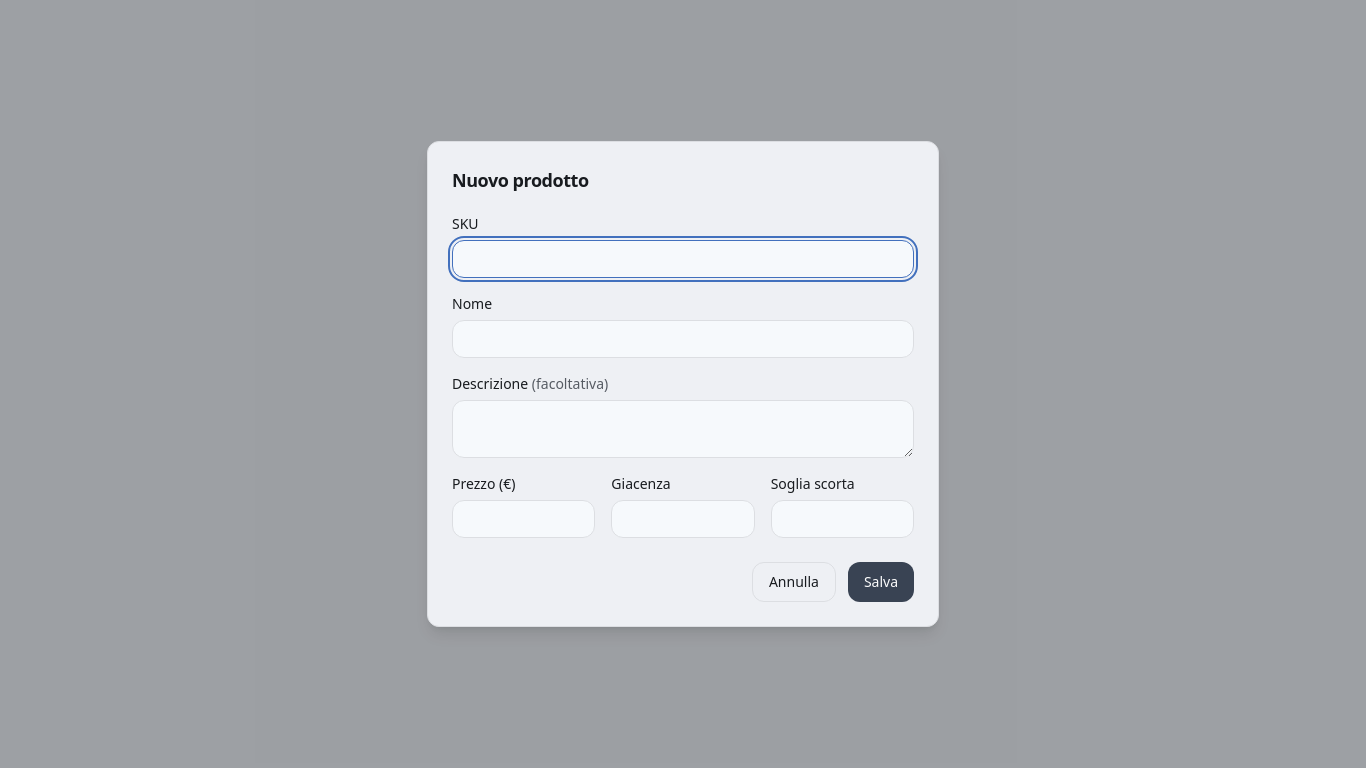
Test: ProductFormDialog › blocca il submit a campi obbligatori mancanti e mostra gli errori
This screenshot has width=1366, height=768.
Click the button "Salva": (881, 582) top-left (848, 562), bottom-right (914, 602)
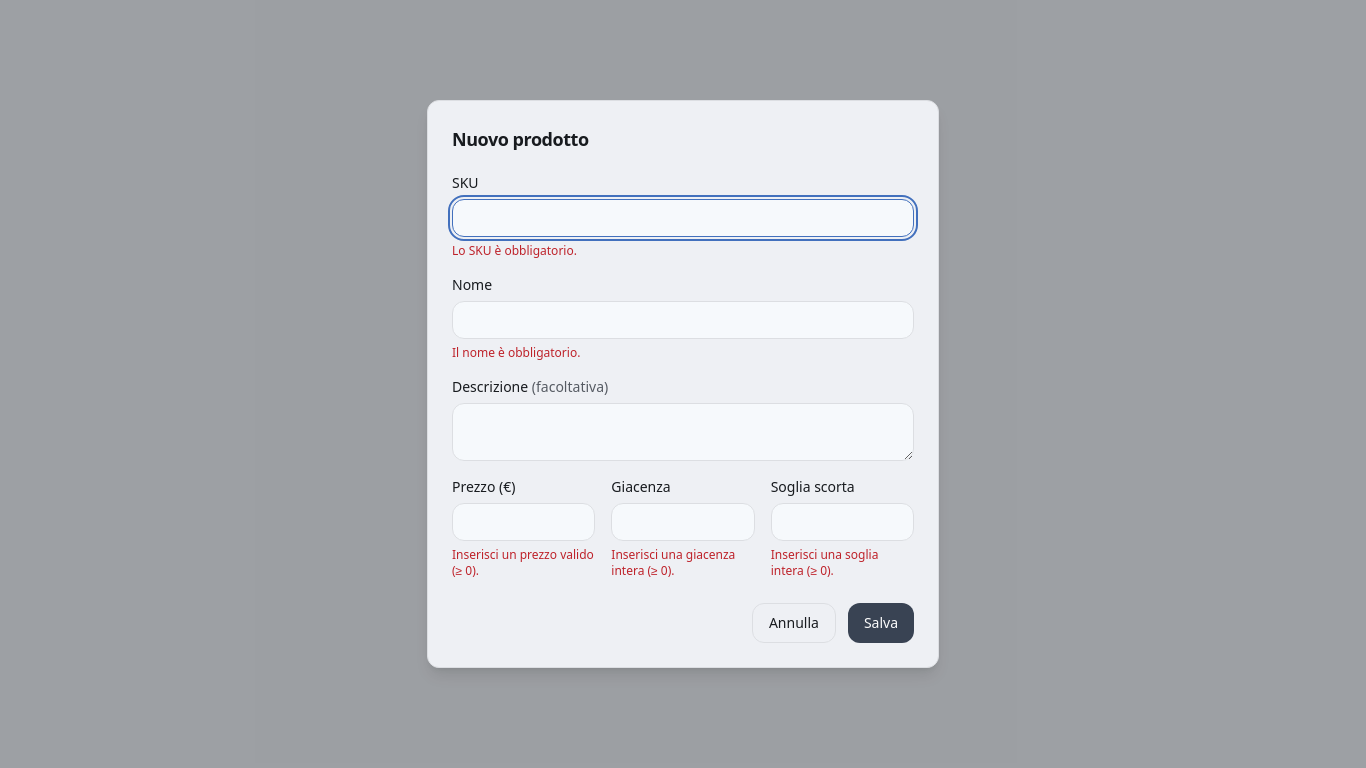
Expected: the text "Lo SKU è obbligatorio." is shown, top-left (452, 242), bottom-right (577, 259)
Expected: the text "Il nome è obbligatorio." is shown, top-left (452, 344), bottom-right (580, 361)
